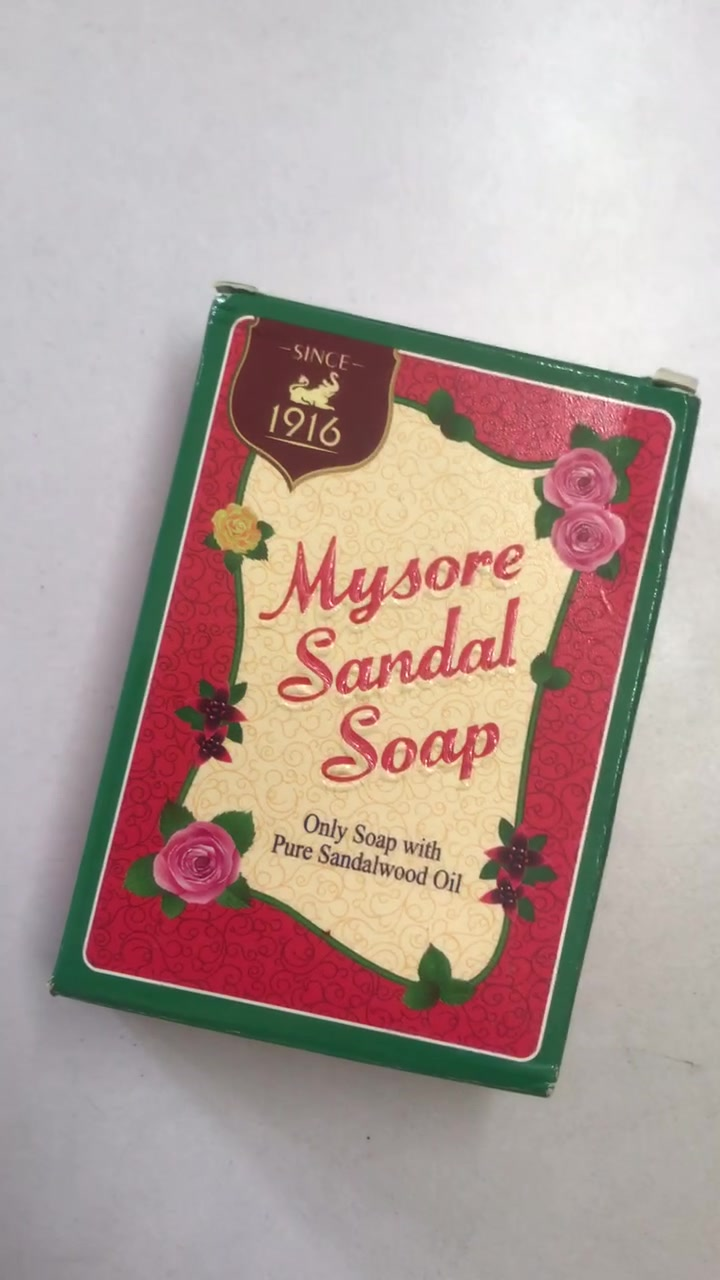mysore sandal soap: (49, 285, 692, 1096)
